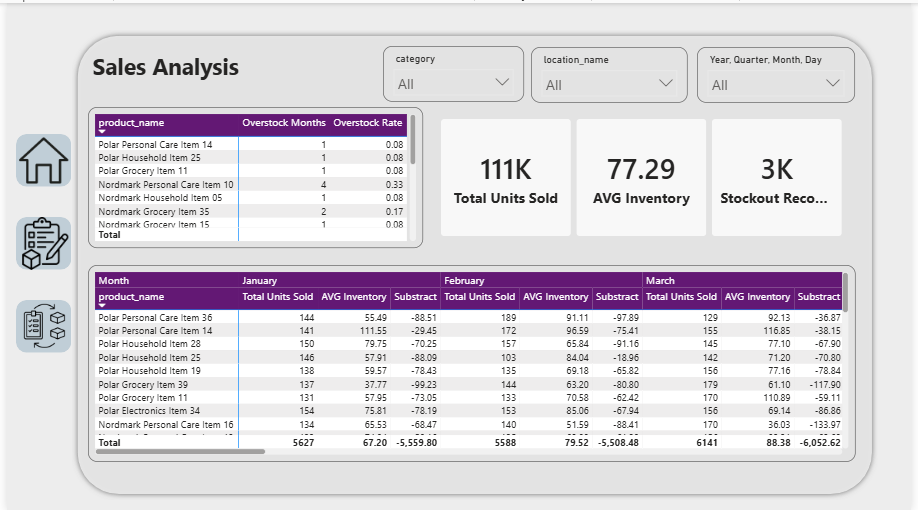

Layout of this report page (visuals, bound fields, positions):
{"tool":"powerbi","page":{"name":"Sales","canvas":[1280,720],"ordinal":2},"visuals":[{"type":"shape","box":[92.5,38.8,1141.8,665.7],"z":0},{"type":"textbox","box":[115.6,62.2,475.6,80],"z":1000},{"type":"slicer","fields":{"Values":["dim_date.Date.Variation.Date Hierarchy.Year","dim_date.Date.Variation.Date Hierarchy.Quarter","dim_date.Date.Variation.Date Hierarchy.Month","dim_date.Date.Variation.Date Hierarchy.Day"]},"box":[977.6,62.7,223.9,79.1],"z":2000},{"type":"pivotTable","fields":{"Values":["Measure.Total Qty Sold","Measure.AVG Inventory","Measure.Substract"],"Columns":["dim_date.Date.Variation.Date Hierarchy.Month"],"Rows":["silver__product_master__lite.product_name"]},"box":[114.9,371.6,1088.1,279.1],"z":3000},{"type":"pivotTable","fields":{"Rows":["silver__product_master__lite.product_name"],"Values":["Measure.Overstock Months","Measure.Overstock Rate"]},"box":[114.9,147.8,474.6,200],"z":4000},{"type":"cardVisual","fields":{"Data":["Measure.Total Qty Sold","Measure.AVG Inventory","Measure.Stockout Records"]},"box":[598.5,147.8,604.5,200],"z":5000},{"type":"shape","box":[12.7,186.1,78.5,74.7],"z":6000},{"type":"shape","box":[12.7,303.2,78.5,74.7],"z":7000},{"type":"shape","box":[12.7,420.3,78.5,74.7],"z":8000},{"type":"image","box":[16.5,186.1,69.6,74.7],"z":9000},{"type":"image","box":[15.6,425.2,75.1,65.2],"z":10000},{"type":"slicer","fields":{"Values":["product.category"]},"box":[532.8,61.2,200,79.1],"z":12000},{"type":"slicer","fields":{"Values":["location.location_name"]},"box":[743.3,62.7,222.4,79.1],"z":13000},{"type":"image","box":[12.8,303.3,83.6,75.1],"z":14000}]}

Visuals, with their boxes on the page's 1280x720 design canvas (x1, y1, x2, y2). These are canvas units, not pixel positions in the 918x510 screenshot, which may show the page scaled, cropped or inside an application window:
shape: bbox=(92, 39, 1234, 704)
textbox: bbox=(116, 62, 591, 142)
slicer - dim_date.Date.Variation.Date Hierarchy.Year x dim_date.Date.Variation.Date Hierarchy.Quarter: bbox=(978, 63, 1202, 142)
pivotTable - Measure.Total Qty Sold x Measure.AVG Inventory: bbox=(115, 372, 1203, 651)
pivotTable - silver__product_master__lite.product_name x Measure.Overstock Months: bbox=(115, 148, 590, 348)
cardVisual - Measure.Total Qty Sold x Measure.AVG Inventory: bbox=(598, 148, 1203, 348)
shape: bbox=(13, 186, 91, 261)
shape: bbox=(13, 303, 91, 378)
shape: bbox=(13, 420, 91, 495)
image: bbox=(16, 186, 86, 261)
image: bbox=(16, 425, 91, 490)
slicer - product.category: bbox=(533, 61, 733, 140)
slicer - location.location_name: bbox=(743, 63, 966, 142)
image: bbox=(13, 303, 96, 378)
